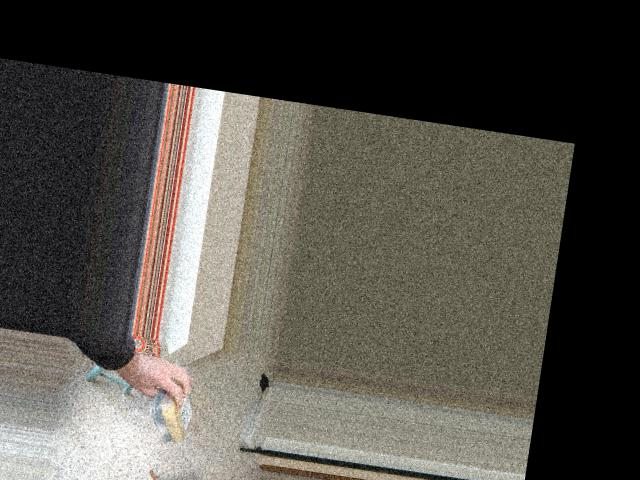cheese: (145, 367, 202, 449)
